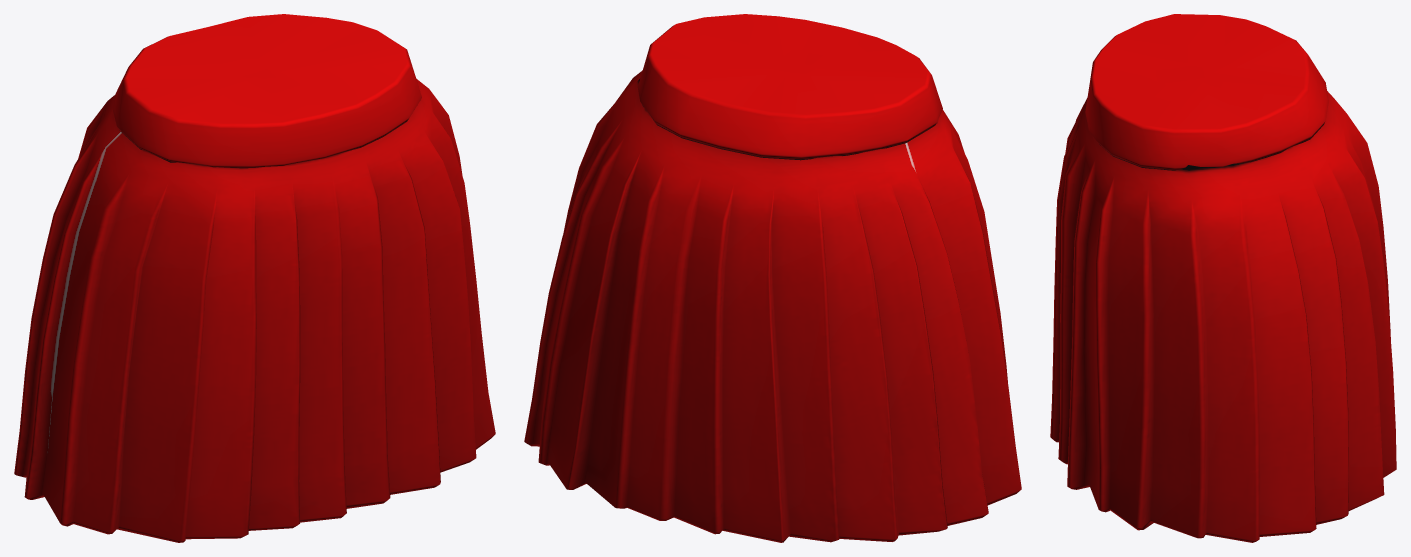
File: Bottom_PleatedSkirt.obj
3 renders of one model, left to right at view 1: azimuth 30°, elevation 25°; view 2: azimuth 150°, elevation 25°; view 3: azimuth 270°, elevation 25°, orthographic. The views are drawn at different scales.
Visible parts, largest first — view 1: Bottom_PleatedSkirt_0; view 2: Bottom_PleatedSkirt_0; view 3: Bottom_PleatedSkirt_0.
Boxes of the visible parts, <box> form: Bottom_PleatedSkirt_0: <box>14,14,495,542</box>; Bottom_PleatedSkirt_0: <box>524,14,1021,542</box>; Bottom_PleatedSkirt_0: <box>1050,14,1396,542</box>.
Size of the model in its own units: 0.4543 by 0.3841 by 0.3225.
1 material, 1 textured.
